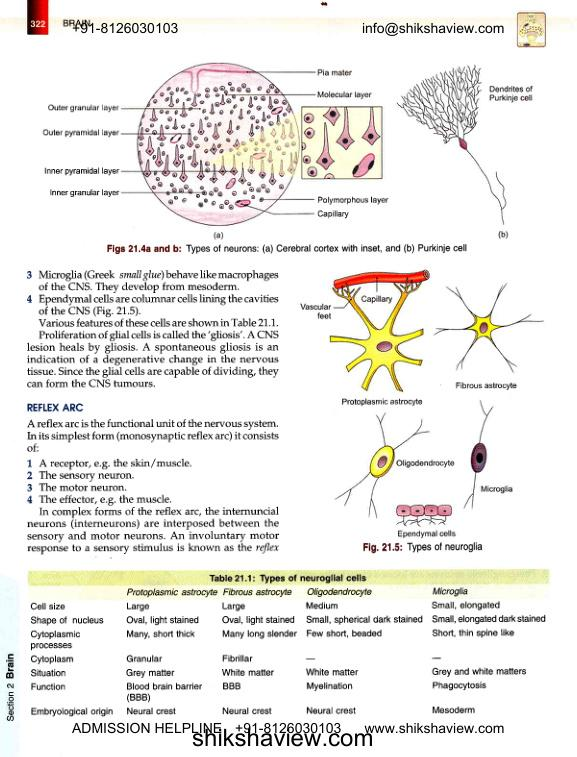caption: (106, 243, 468, 255), (208, 573, 367, 584), (362, 542, 485, 554), (497, 230, 509, 240), (213, 231, 225, 240)
header: (62, 19, 92, 28)
image: (35, 52, 393, 241), (395, 60, 536, 241), (296, 266, 431, 408), (331, 411, 458, 540), (433, 279, 546, 393), (460, 396, 518, 513), (389, 499, 458, 540)
list: (26, 268, 280, 318), (25, 458, 194, 506)
section-heading: (26, 402, 84, 413)
table: (26, 585, 549, 716)
text: (26, 318, 280, 389), (26, 506, 282, 555), (26, 418, 280, 452)
